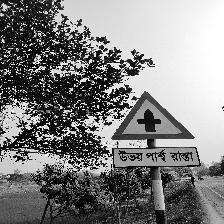Crossroad: (109, 82, 210, 177)
